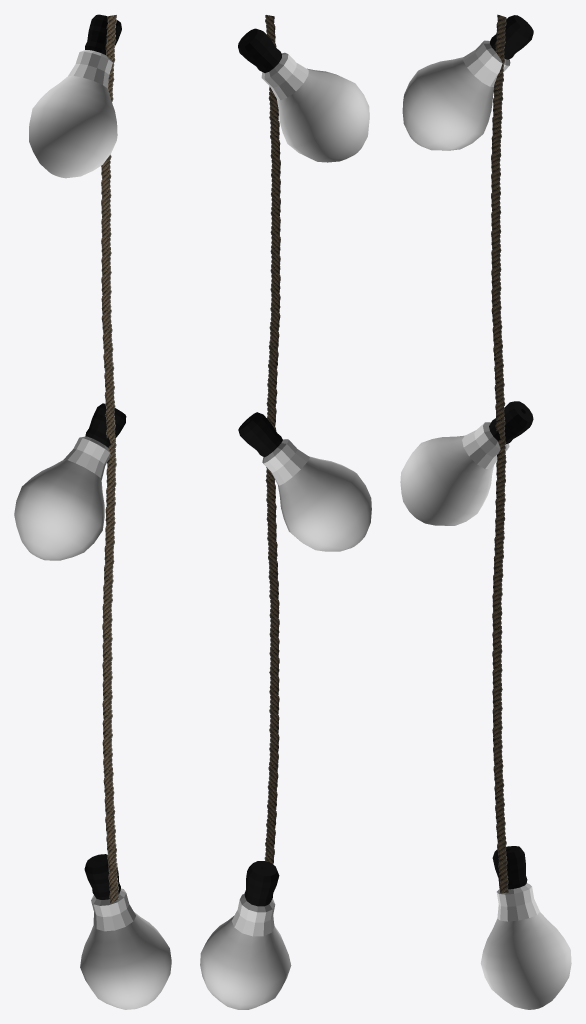
File: SM_VertRopeBulb.fbx
3 renders of one model, left to right at view 1: azimuth 30°, elevation 25°; view 2: azimuth 150°, elevation 25°; view 3: azimuth 330°, elevation 25°, orthographic.
Visible parts, largest first — view 1: Object018; view 2: Object018; view 3: Object018.
Boxes of the visible parts, left/top/right/bottom form: Object018: left=14, top=14, right=171, bottom=1009; Object018: left=200, top=15, right=371, bottom=1009; Object018: left=400, top=14, right=571, bottom=1009.
Size of the model in its own units: 24.52 by 153 by 16.5.
